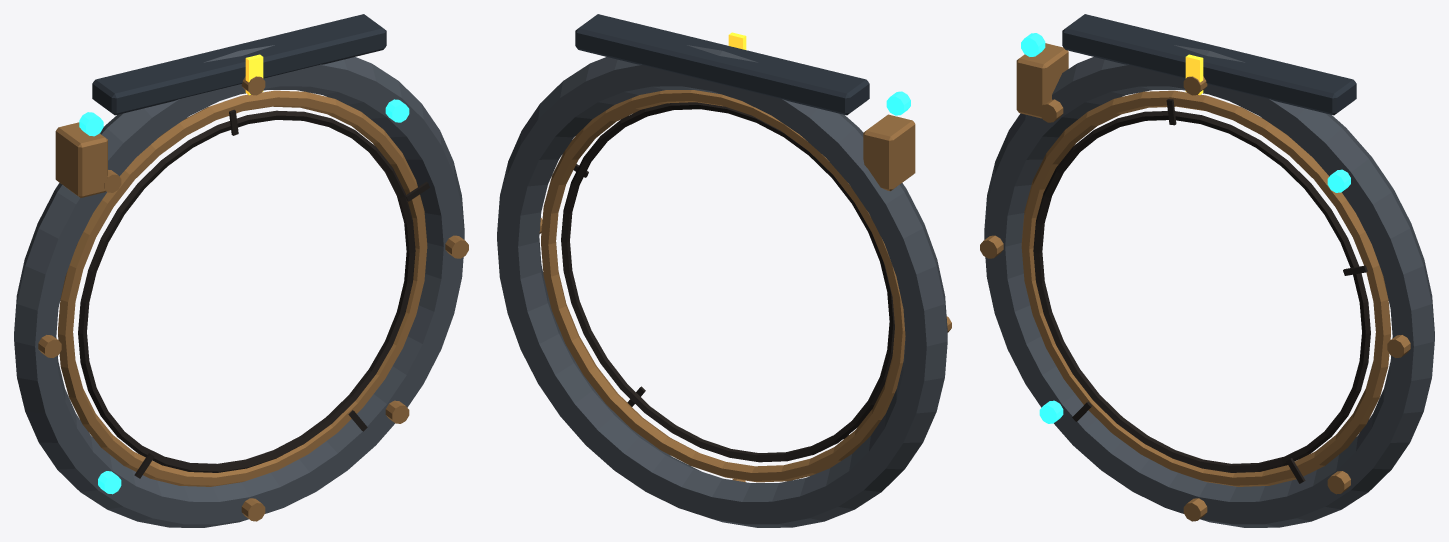
Rendered from runtime.glb.
3 renders of one model, left to right at view 1: azimuth 30°, elevation 25°; view 2: azimuth 150°, elevation 25°; view 3: azimuth 330°, elevation 25°, orthographic.
Visible parts, largest first — view 1: kinetic-tide-bearing-flange-v02_plate_nocol, kinetic-tide-bearing-flange-v02_bronze_nocol, kinetic-tide-bearing-flange-v02_steel_nocol, kinetic-tide-bearing-flange-v02_weardark_nocol, kinetic-tide-bearing-flange-v02_cyansignal_nocol; view 2: kinetic-tide-bearing-flange-v02_plate_nocol, kinetic-tide-bearing-flange-v02_bronze_nocol, kinetic-tide-bearing-flange-v02_steel_nocol, kinetic-tide-bearing-flange-v02_weardark_nocol; view 3: kinetic-tide-bearing-flange-v02_plate_nocol, kinetic-tide-bearing-flange-v02_bronze_nocol, kinetic-tide-bearing-flange-v02_steel_nocol, kinetic-tide-bearing-flange-v02_weardark_nocol, kinetic-tide-bearing-flange-v02_cyansignal_nocol.
Part boxes in pixels (bbox=[...]): kinetic-tide-bearing-flange-v02_plate_nocol: bbox=[14, 45, 464, 527]; kinetic-tide-bearing-flange-v02_bronze_nocol: bbox=[38, 76, 468, 521]; kinetic-tide-bearing-flange-v02_steel_nocol: bbox=[92, 14, 386, 115]; kinetic-tide-bearing-flange-v02_weardark_nocol: bbox=[78, 109, 429, 478]; kinetic-tide-bearing-flange-v02_cyansignal_nocol: bbox=[79, 99, 409, 494]; kinetic-tide-bearing-flange-v02_plate_nocol: bbox=[497, 45, 947, 527]; kinetic-tide-bearing-flange-v02_bronze_nocol: bbox=[539, 90, 951, 482]; kinetic-tide-bearing-flange-v02_steel_nocol: bbox=[575, 14, 869, 115]; kinetic-tide-bearing-flange-v02_weardark_nocol: bbox=[561, 102, 894, 462]; kinetic-tide-bearing-flange-v02_plate_nocol: bbox=[984, 45, 1434, 527]; kinetic-tide-bearing-flange-v02_bronze_nocol: bbox=[980, 43, 1410, 521]; kinetic-tide-bearing-flange-v02_steel_nocol: bbox=[1062, 14, 1356, 115]; kinetic-tide-bearing-flange-v02_weardark_nocol: bbox=[1033, 99, 1370, 483]; kinetic-tide-bearing-flange-v02_cyansignal_nocol: bbox=[1021, 33, 1350, 423].
Bounding box in the file's own units: 5.6 × 5.65 × 0.6247.
